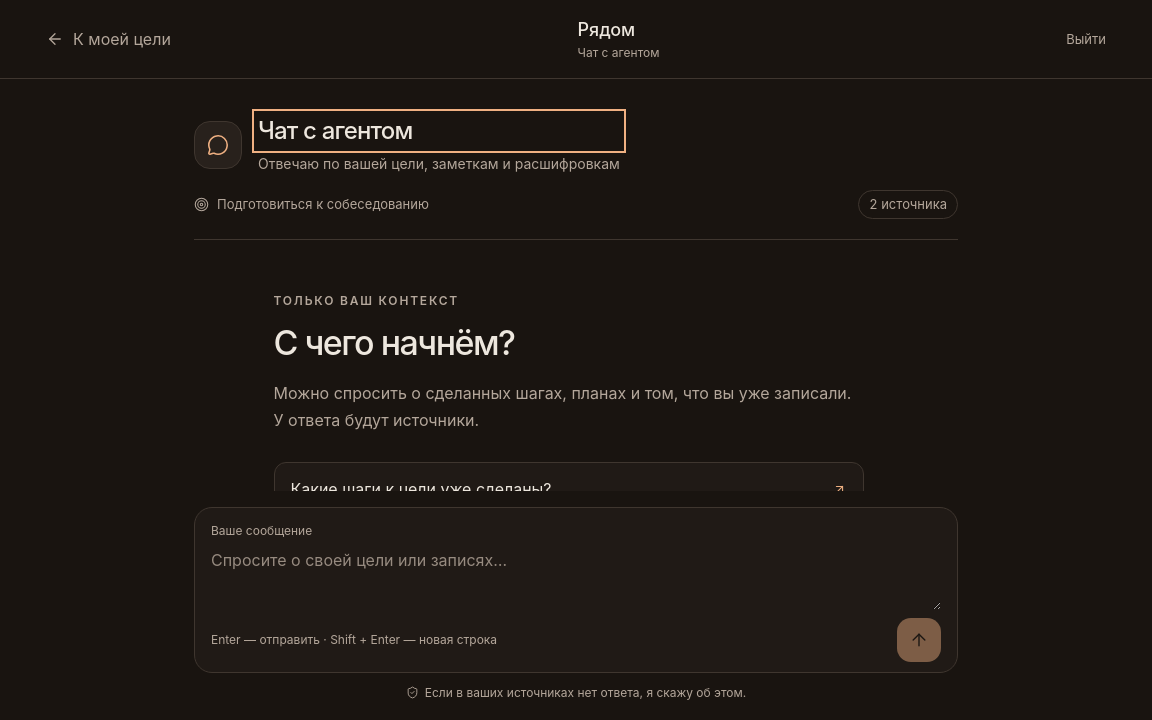
Scenario: keeps draft and request ID on failure, then retries without duplicating a send
In the text box: coordinates (576, 579) [211,548,941,610], type "Что я уже сделал?"
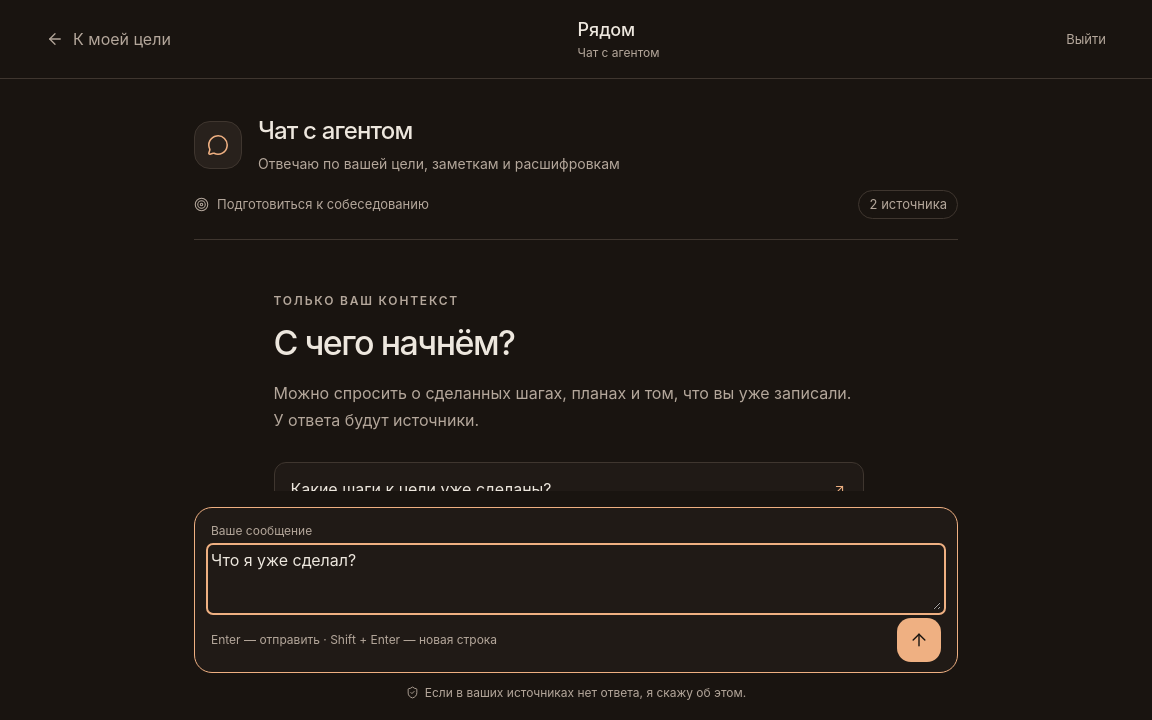
Click the button named "Отправить сообщение": coordinates (919, 640) [897,618,941,662]
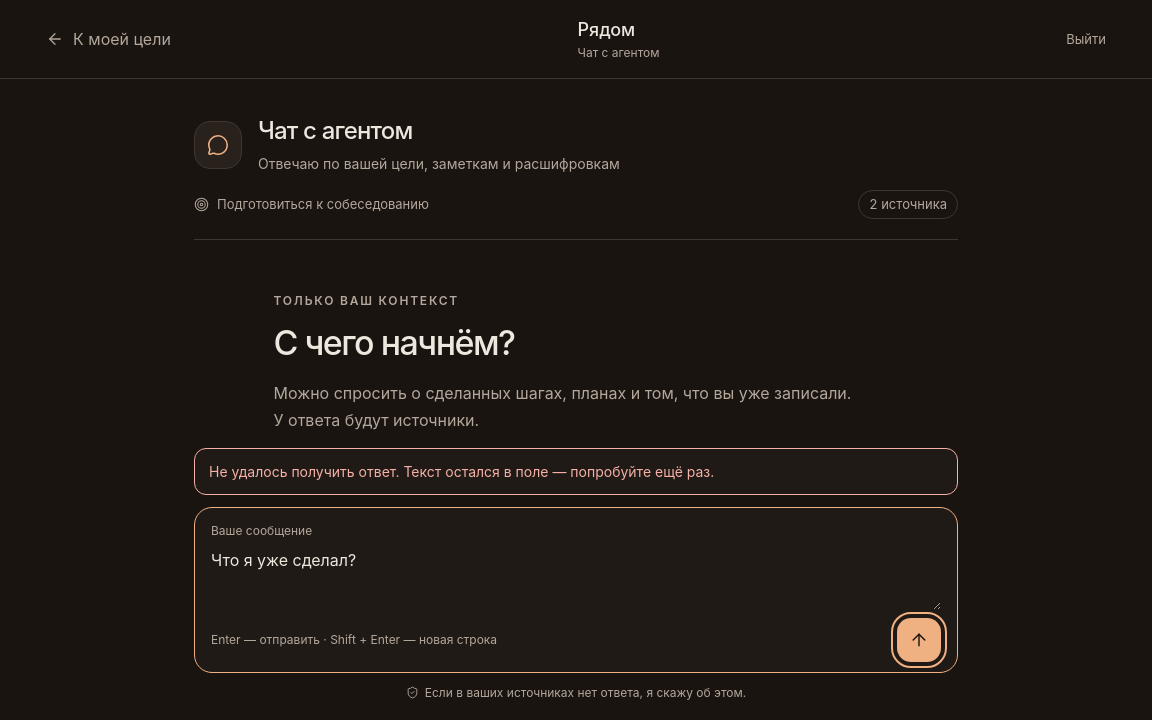
Result: the message shows "Текст остался в поле" at [209,463,714,480]
Click the button named "Отправить сообщение снова": coordinates (919, 640) [897,618,941,662]
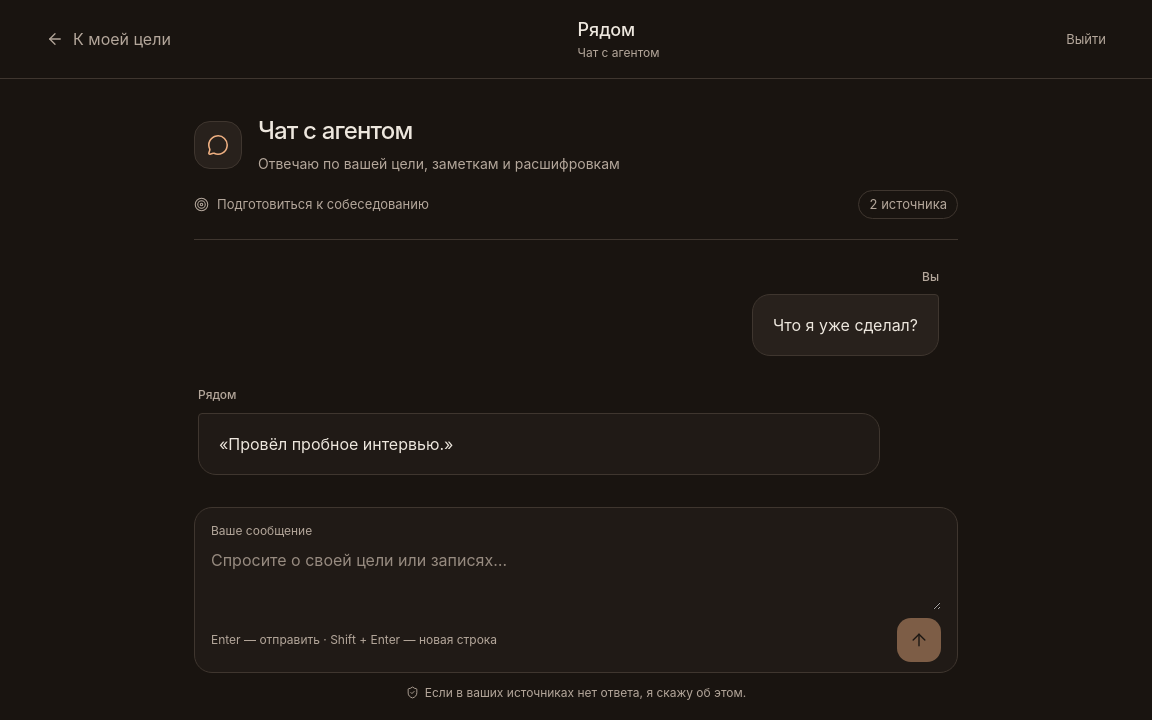
Result: the text "«Провёл пробное интервью.»" is shown at [219,434,453,454]
Result: the number of list items is 2 at [752,268,939,356]; [198,386,880,491]
